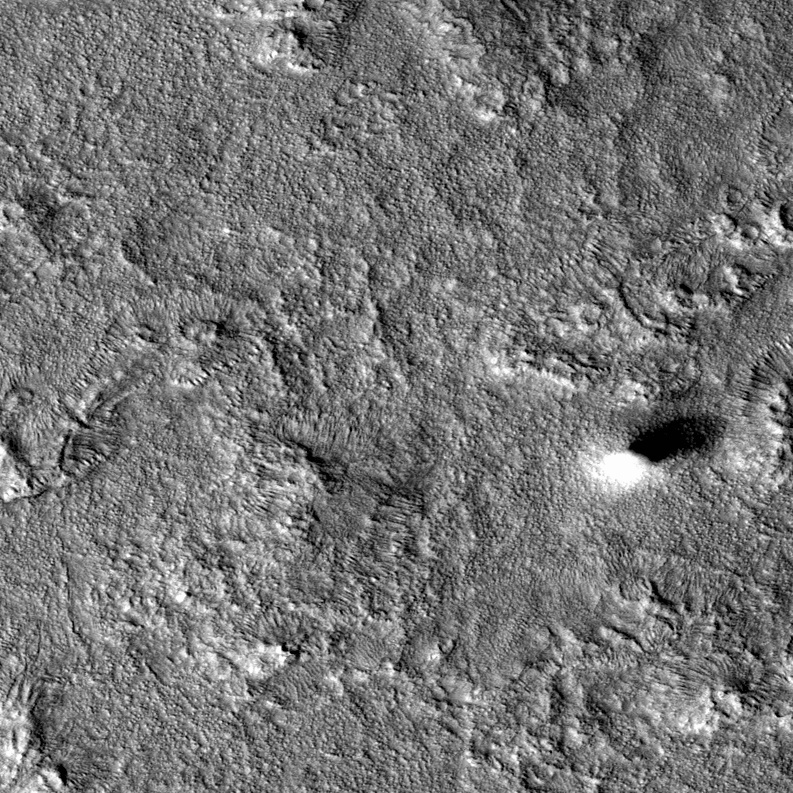dust_devil: (595, 411, 723, 495)
